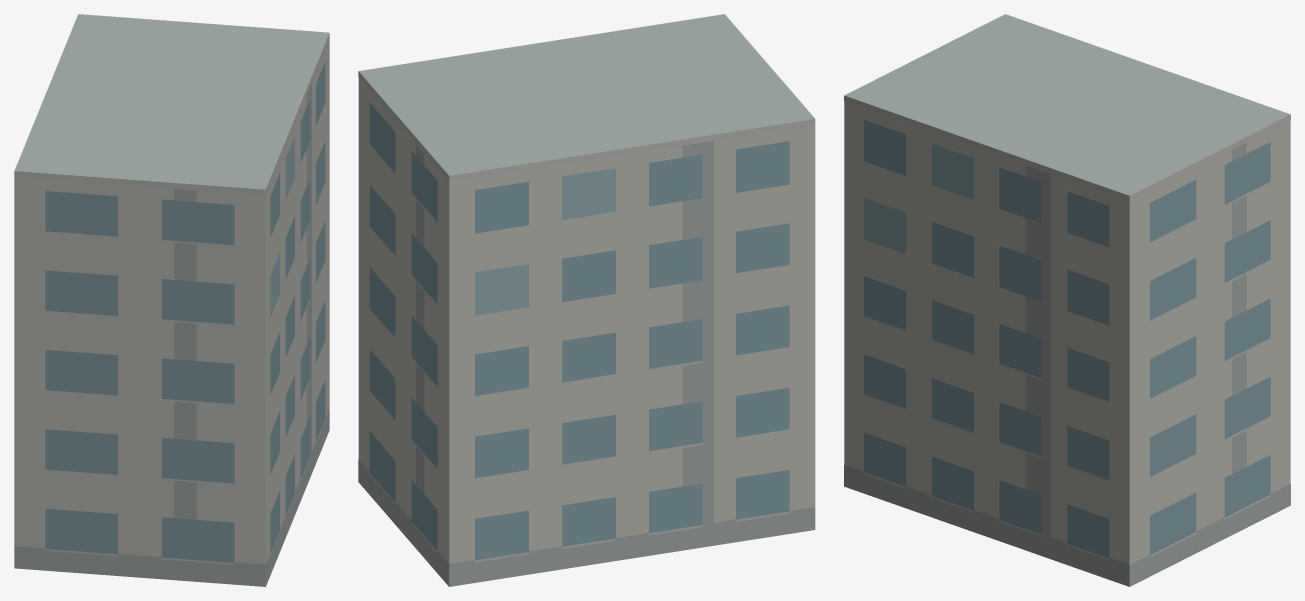
File: survey-upis-32882630.glb
3 views of the same model, side by side, from view 1: azimuth 30°, elevation 25°; view 2: azimuth 150°, elevation 25°; view 3: azimuth 270°, elevation 25° (orthographic). The views are drawn at different scales.
Visible parts, largest first — view 1: survey-upis-32882630.tmp; view 2: survey-upis-32882630.tmp; view 3: survey-upis-32882630.tmp.
Part boxes in pixels (x1,y1,x2,y2): survey-upis-32882630.tmp: [14, 14, 329, 586]; survey-upis-32882630.tmp: [358, 14, 815, 586]; survey-upis-32882630.tmp: [844, 14, 1290, 586].
Size of the model in its own units: 16.06 by 16.1 by 16.67.
